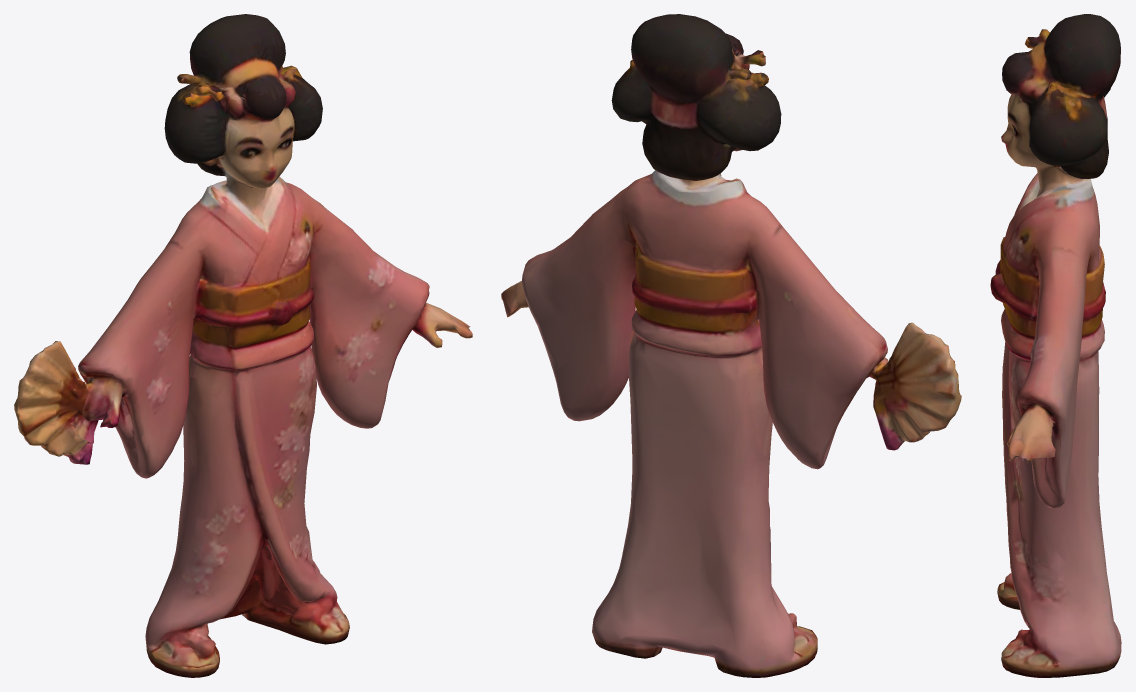
Rendered from char_kimono_lady.glb.
3 views of the same model, side by side, from view 1: azimuth 30°, elevation 25°; view 2: azimuth 150°, elevation 25°; view 3: azimuth 270°, elevation 25° (orthographic). The views are drawn at different scales.
Parts seen in each view (by area): view 1: geometry_0; view 2: geometry_0; view 3: geometry_0.
Part boxes in pixels (x1,y1,x2,y2): geometry_0: (14, 14, 472, 677); geometry_0: (501, 14, 961, 677); geometry_0: (990, 14, 1121, 677).
Size of the model in its own units: 1.5 by 1.97 by 0.3779.
Materials: 1 (1 with a texture image).
